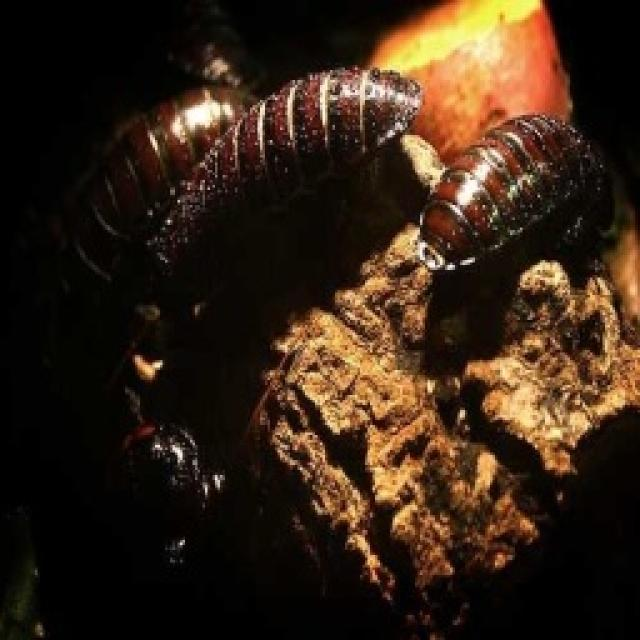cockroach: (150, 50, 430, 311), (399, 67, 640, 316), (25, 66, 302, 222)
